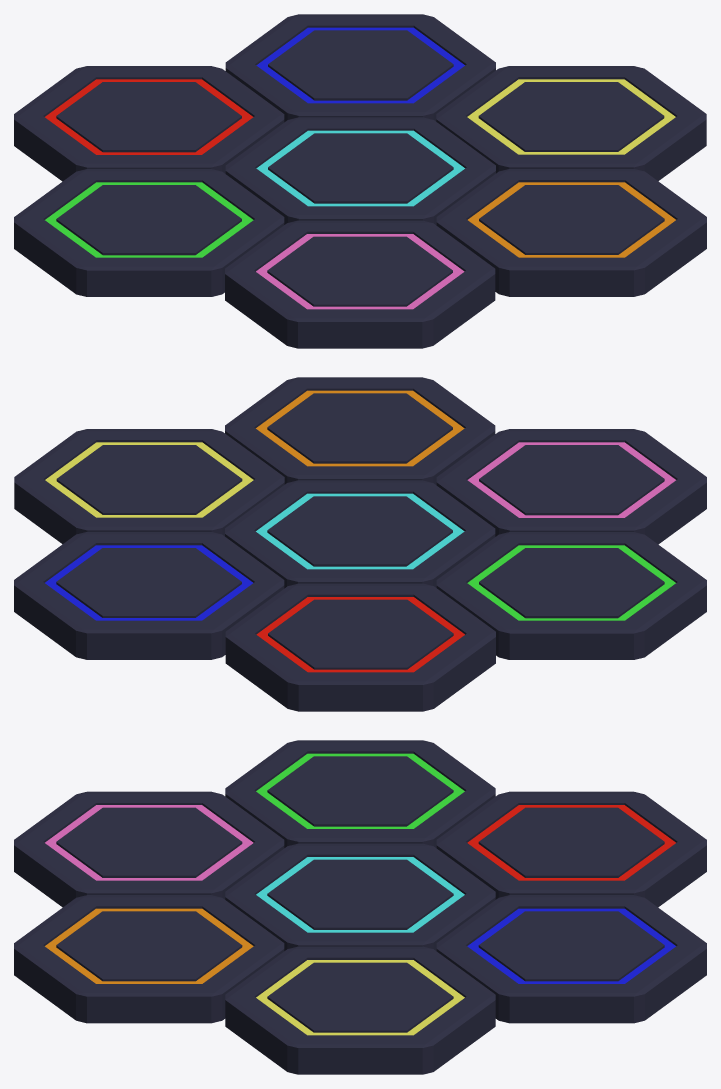
The model's file is Tablero_Hexaquest.fbx.
3 views of the same model, one above another, from view 1: azimuth 30°, elevation 25°; view 2: azimuth 150°, elevation 25°; view 3: azimuth 270°, elevation 25° (orthographic).
Visible parts, largest first — view 1: Hegaxono_Rosa, Hegaxono_Naranja, Hegaxono_Verde, Hegaxono_Rojo, Hegaxono_Amarillo, Hegaxono_Central, Hegaxono_Azul; view 2: Hegaxono_Rojo, Hegaxono_Azul, Hegaxono_Verde, Hegaxono_Rosa, Hegaxono_Amarillo, Hegaxono_Central, Hegaxono_Naranja; view 3: Hegaxono_Amarillo, Hegaxono_Azul, Hegaxono_Naranja, Hegaxono_Rojo, Hegaxono_Rosa, Hegaxono_Verde, Hegaxono_Central.
Boxes of the visible parts, left/top/right/bottom form: Hegaxono_Rosa: left=225, top=220, right=495, bottom=348; Hegaxono_Naranja: left=436, top=169, right=706, bottom=296; Hegaxono_Verde: left=14, top=169, right=284, bottom=296; Hegaxono_Rojo: left=14, top=66, right=284, bottom=181; Hegaxono_Amarillo: left=436, top=66, right=706, bottom=181; Hegaxono_Central: left=225, top=117, right=495, bottom=225; Hegaxono_Azul: left=225, top=14, right=495, bottom=122; Hegaxono_Rojo: left=225, top=583, right=495, bottom=711; Hegaxono_Azul: left=14, top=532, right=284, bottom=659; Hegaxono_Verde: left=436, top=532, right=706, bottom=659; Hegaxono_Rosa: left=436, top=429, right=706, bottom=544; Hegaxono_Amarillo: left=14, top=429, right=284, bottom=544; Hegaxono_Central: left=225, top=480, right=495, bottom=588; Hegaxono_Naranja: left=225, top=377, right=495, bottom=485; Hegaxono_Amarillo: left=225, top=946, right=495, bottom=1074; Hegaxono_Azul: left=436, top=895, right=706, bottom=1023; Hegaxono_Naranja: left=14, top=895, right=284, bottom=1023; Hegaxono_Rojo: left=436, top=791, right=706, bottom=907; Hegaxono_Rosa: left=14, top=791, right=284, bottom=907; Hegaxono_Verde: left=225, top=740, right=495, bottom=847; Hegaxono_Central: left=225, top=843, right=495, bottom=950.
Size of the model in its own units: 5.25 by 0.2233 by 4.99.
